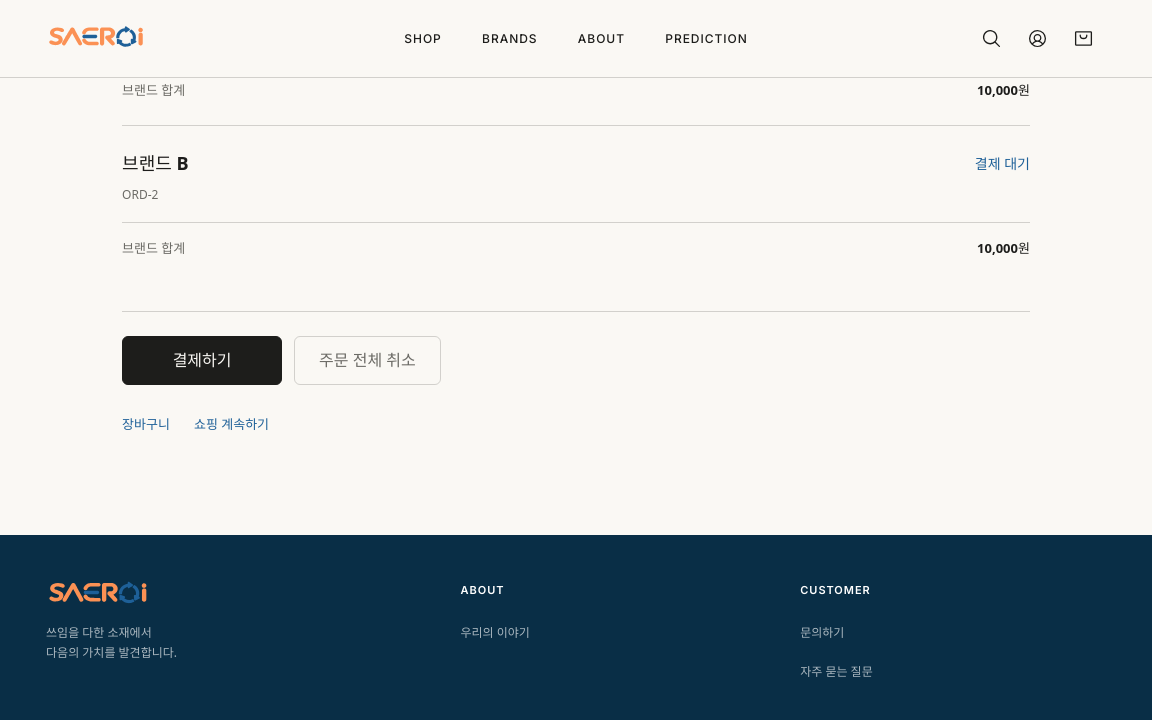
Test: order group checkout › does not prepare payment if the order became paid before the click
(page scrolled)
Click the button "결제하기": {"x": 202, "y": 360} [122,336,282,385]
(page scrolled)
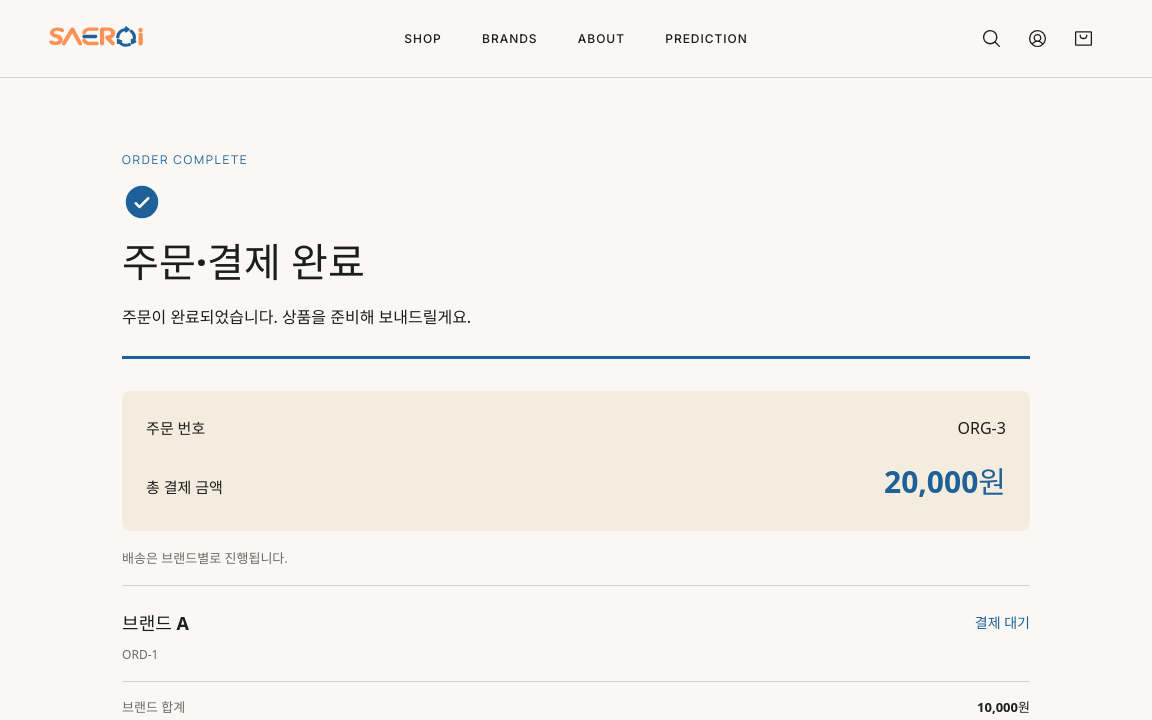
Now the heading "주문·결제 완료" is shown, box [122,234,365,289]
